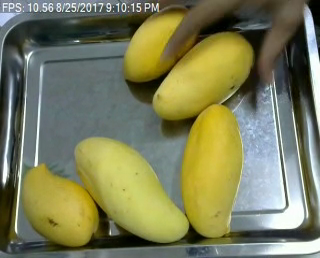Mango: (70, 134, 192, 242), (150, 30, 254, 124), (178, 103, 245, 240), (119, 3, 198, 85), (21, 165, 100, 244)
